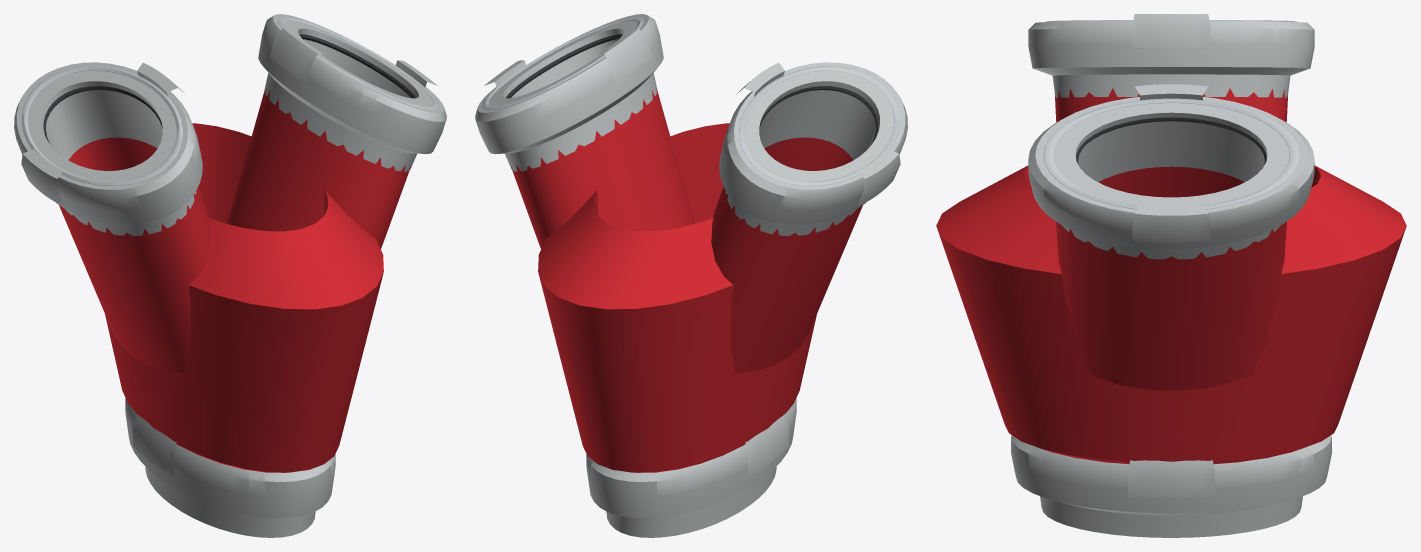
Rendered from ob_collecting_breeching.glb.
3 views of the same model, side by side, from view 1: azimuth 30°, elevation 25°; view 2: azimuth 150°, elevation 25°; view 3: azimuth 270°, elevation 25° (orthographic). The views are drawn at different scales.
Visible parts, largest first — view 1: ob_collecting_breeching; view 2: ob_collecting_breeching; view 3: ob_collecting_breeching.
Part boxes in pixels (<box>): ob_collecting_breeching: <box>14,14,446,537</box>; ob_collecting_breeching: <box>475,14,907,537</box>; ob_collecting_breeching: <box>936,14,1406,537</box>.
Bounding box in the file's own units: 0.4 × 0.43 × 0.4.
